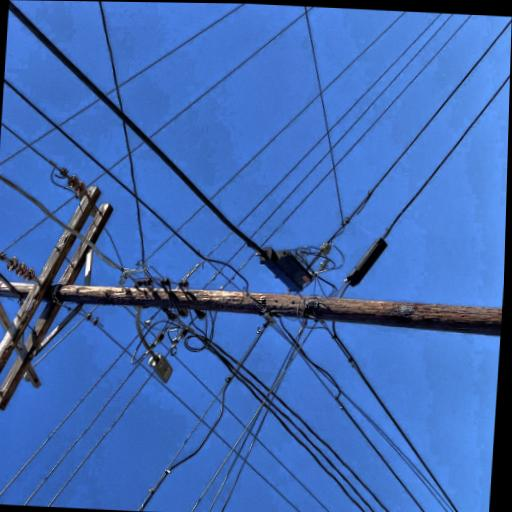pole: (30, 99, 107, 509)
street light: (0, 268, 73, 320)
